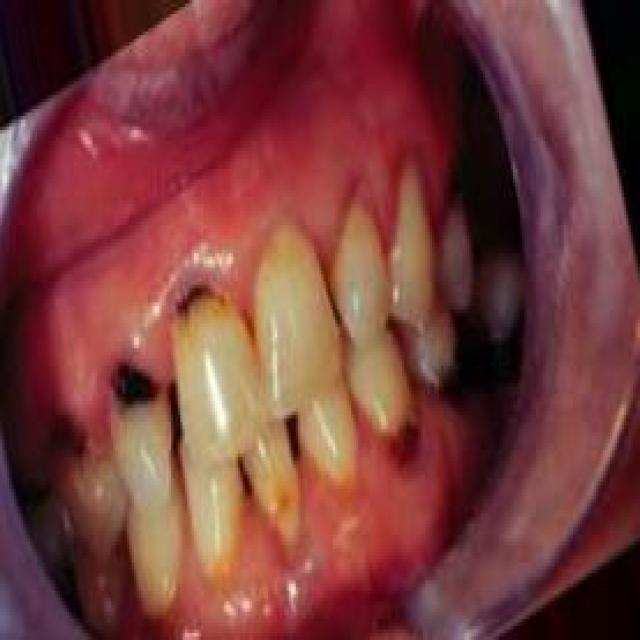caries: (97, 346, 169, 429), (164, 268, 230, 339), (380, 406, 436, 485), (258, 473, 307, 554)
